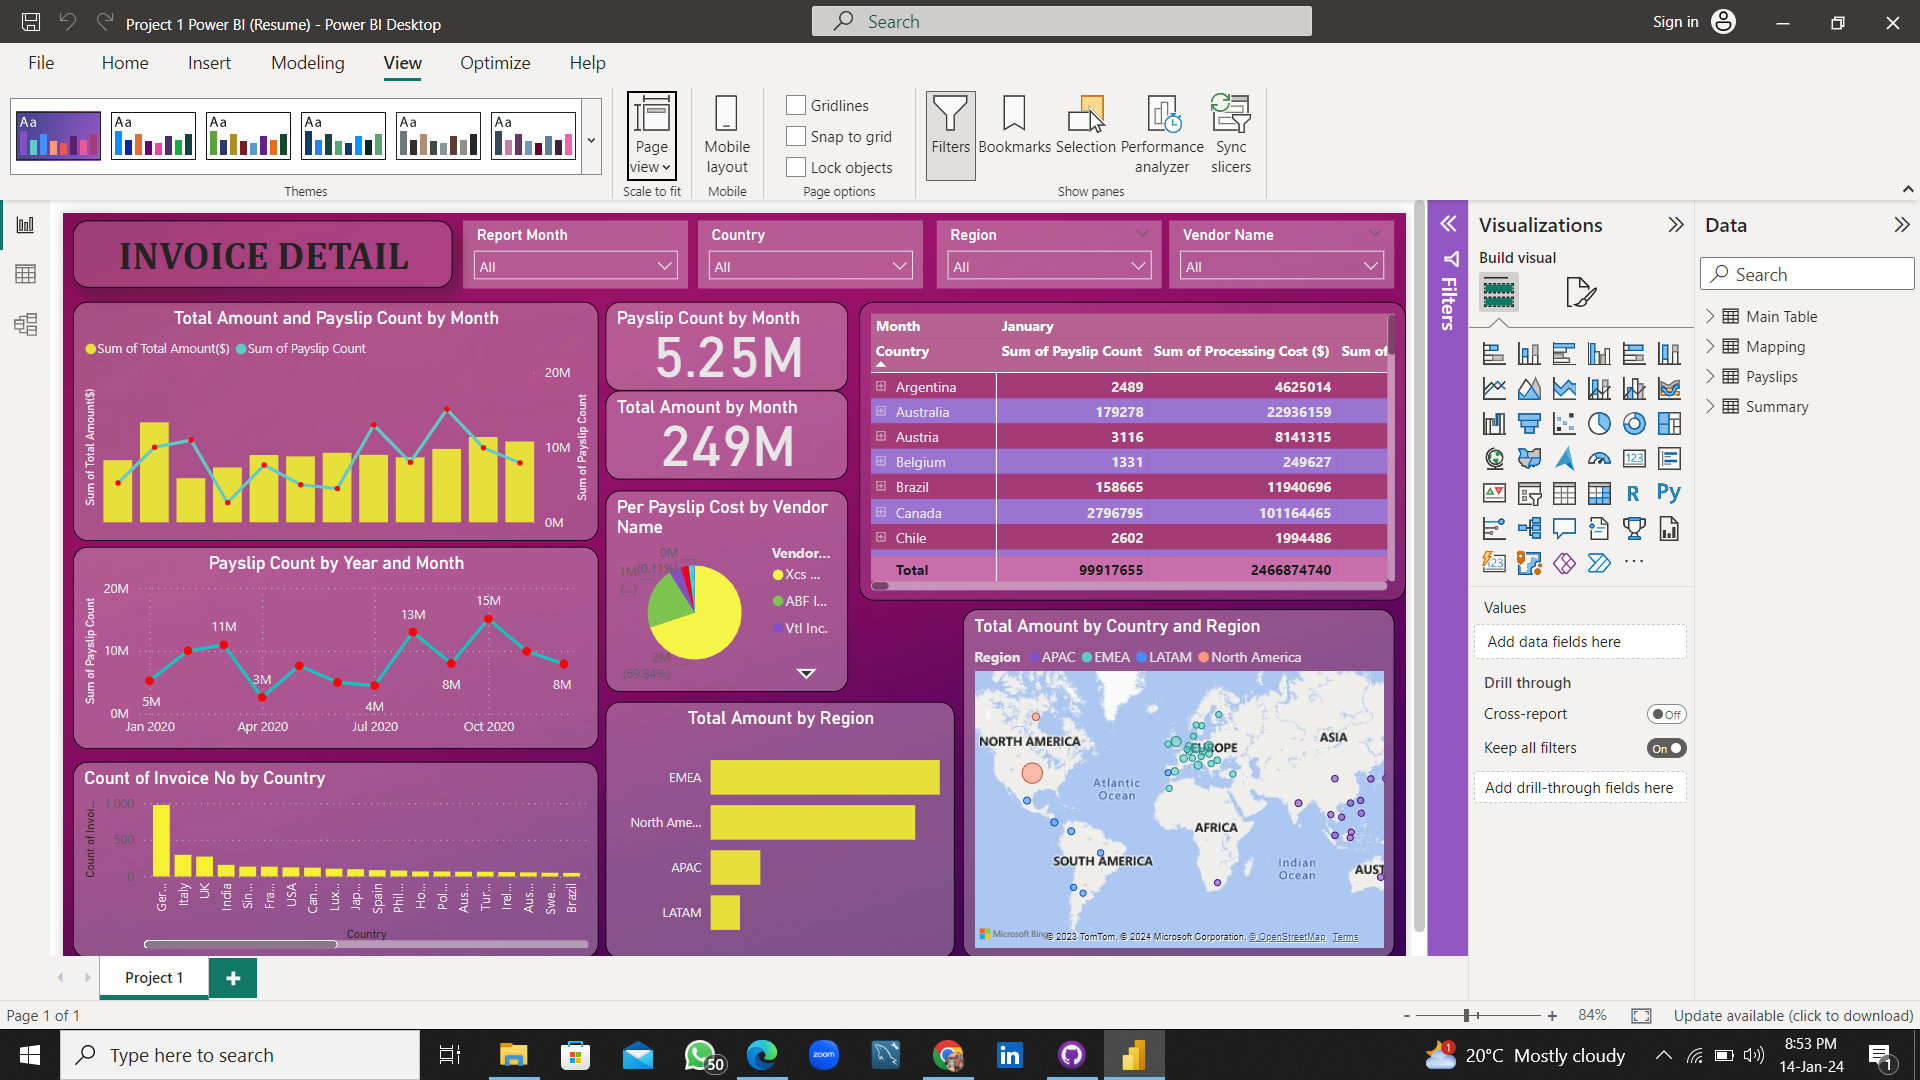

This screenshot's page, from the dashboard's own definition file:
{"tool":"powerbi","page":{"name":"Project 1","canvas":[1280,720],"ordinal":0},"visuals":[{"type":"slicer","fields":{"Values":["Main Table.Report Month"]},"box":[381.1,7.2,214.7,65.1],"z":0},{"type":"slicer","fields":{"Values":["Mapping.Country"]},"box":[605.4,7.2,214.7,65.1],"z":1000},{"type":"slicer","fields":{"Values":["Mapping.Region"]},"box":[832.2,7.2,214.7,65.1],"z":2000},{"type":"slicer","fields":{"Values":["Mapping.Vendor Name"]},"box":[1054.1,7.2,214.7,65.1],"z":3000},{"type":"lineChart","title":" Payslip Count by Year and Month","fields":{"Category":["Summary.Report Month.Variation.Date Hierarchy.Year","Summary.Report Month.Variation.Date Hierarchy.Month"],"Y":["Summary.Payslip Count"]},"box":[9.6,318.4,500.5,193],"z":4000},{"type":"lineClusteredColumnComboChart","title":"Total Amount and Payslip Count by Month","fields":{"Y2":["Summary.Payslip Count"],"Y":["Summary.Total Amount($)"],"Category":["Summary.Report Month.Variation.Date Hierarchy.Month"]},"box":[9.6,84.4,500.5,227.9],"z":5000},{"type":"columnChart","fields":{"Y":["Main Table.Invoice No"],"Category":["Main Table.Country"]},"box":[9.6,523.4,500.5,186.9],"z":6000},{"type":"pieChart","title":" Per Payslip Cost by Vendor Name","fields":{"Y":["Summary.Per Payslip Cost"],"Category":["Mapping.Vendor Name"]},"box":[517.4,264.1,231.6,191.8],"z":7000},{"type":"map","title":"Total Amount by Country and Region","fields":{"Category":["Mapping.Country"],"Size":["Summary.Total Amount($)"],"Series":["Mapping.Region"]},"box":[857.5,377.5,411.3,332.9],"z":8000},{"type":"pivotTable","fields":{"Rows":["Mapping.Country","Mapping.Region","Mapping.Vendor Name"],"Values":["Summary.Payslip Count","Summary.Processing Cost ($)","Main Table.Recurring Cost($)","Main Table.Rebate($)","Summary.Total Amount($)"],"Columns":["Payslips.Month.Variation.Date Hierarchy.Month"]},"box":[758.6,84.4,521,284.6],"z":9000},{"type":"clusteredBarChart","title":"Total Amount by Region","fields":{"Category":["Mapping.Region"],"Y":["Main Table.Total Amount($)"]},"box":[517.4,465.5,332.9,244.8],"z":10000},{"type":"kpi","title":"Total Amount by Month","fields":{"TrendLine":["Summary.Report Month.Variation.Date Hierarchy.Month"],"Indicator":["Summary.Total Amount($)"]},"box":[517.4,168.8,231.6,84.4],"z":11000},{"type":"kpi","title":"Payslip Count by Month","fields":{"Indicator":["Summary.Payslip Count"],"TrendLine":["Summary.Report Month.Variation.Date Hierarchy.Month"]},"box":[517.4,84.4,231.6,84.4],"z":12000},{"type":"textbox","box":[9.6,7.2,361.8,63.9],"z":13000}]}

Visuals, with their boxes on the page's 1280x720 design canvas (x1, y1, x2, y2). These are canvas units, not pixel positions in the 1920x1080 screenshot, which may show the page scaled, cropped or inside an application window:
slicer - Main Table.Report Month: [left=381, top=7, right=596, bottom=72]
slicer - Mapping.Country: [left=605, top=7, right=820, bottom=72]
slicer - Mapping.Region: [left=832, top=7, right=1047, bottom=72]
slicer - Mapping.Vendor Name: [left=1054, top=7, right=1269, bottom=72]
" Payslip Count by Year and Month" lineChart: [left=10, top=318, right=510, bottom=511]
"Total Amount and Payslip Count by Month" lineClusteredColumnComboChart: [left=10, top=84, right=510, bottom=312]
columnChart - Main Table.Invoice No x Main Table.Country: [left=10, top=523, right=510, bottom=710]
" Per Payslip Cost by Vendor Name" pieChart: [left=517, top=264, right=749, bottom=456]
"Total Amount by Country and Region" map: [left=858, top=378, right=1269, bottom=710]
pivotTable - Mapping.Country x Mapping.Region: [left=759, top=84, right=1280, bottom=369]
"Total Amount by Region" clusteredBarChart: [left=517, top=466, right=850, bottom=710]
"Total Amount by Month" kpi: [left=517, top=169, right=749, bottom=253]
"Payslip Count by Month" kpi: [left=517, top=84, right=749, bottom=169]
textbox: [left=10, top=7, right=371, bottom=71]
